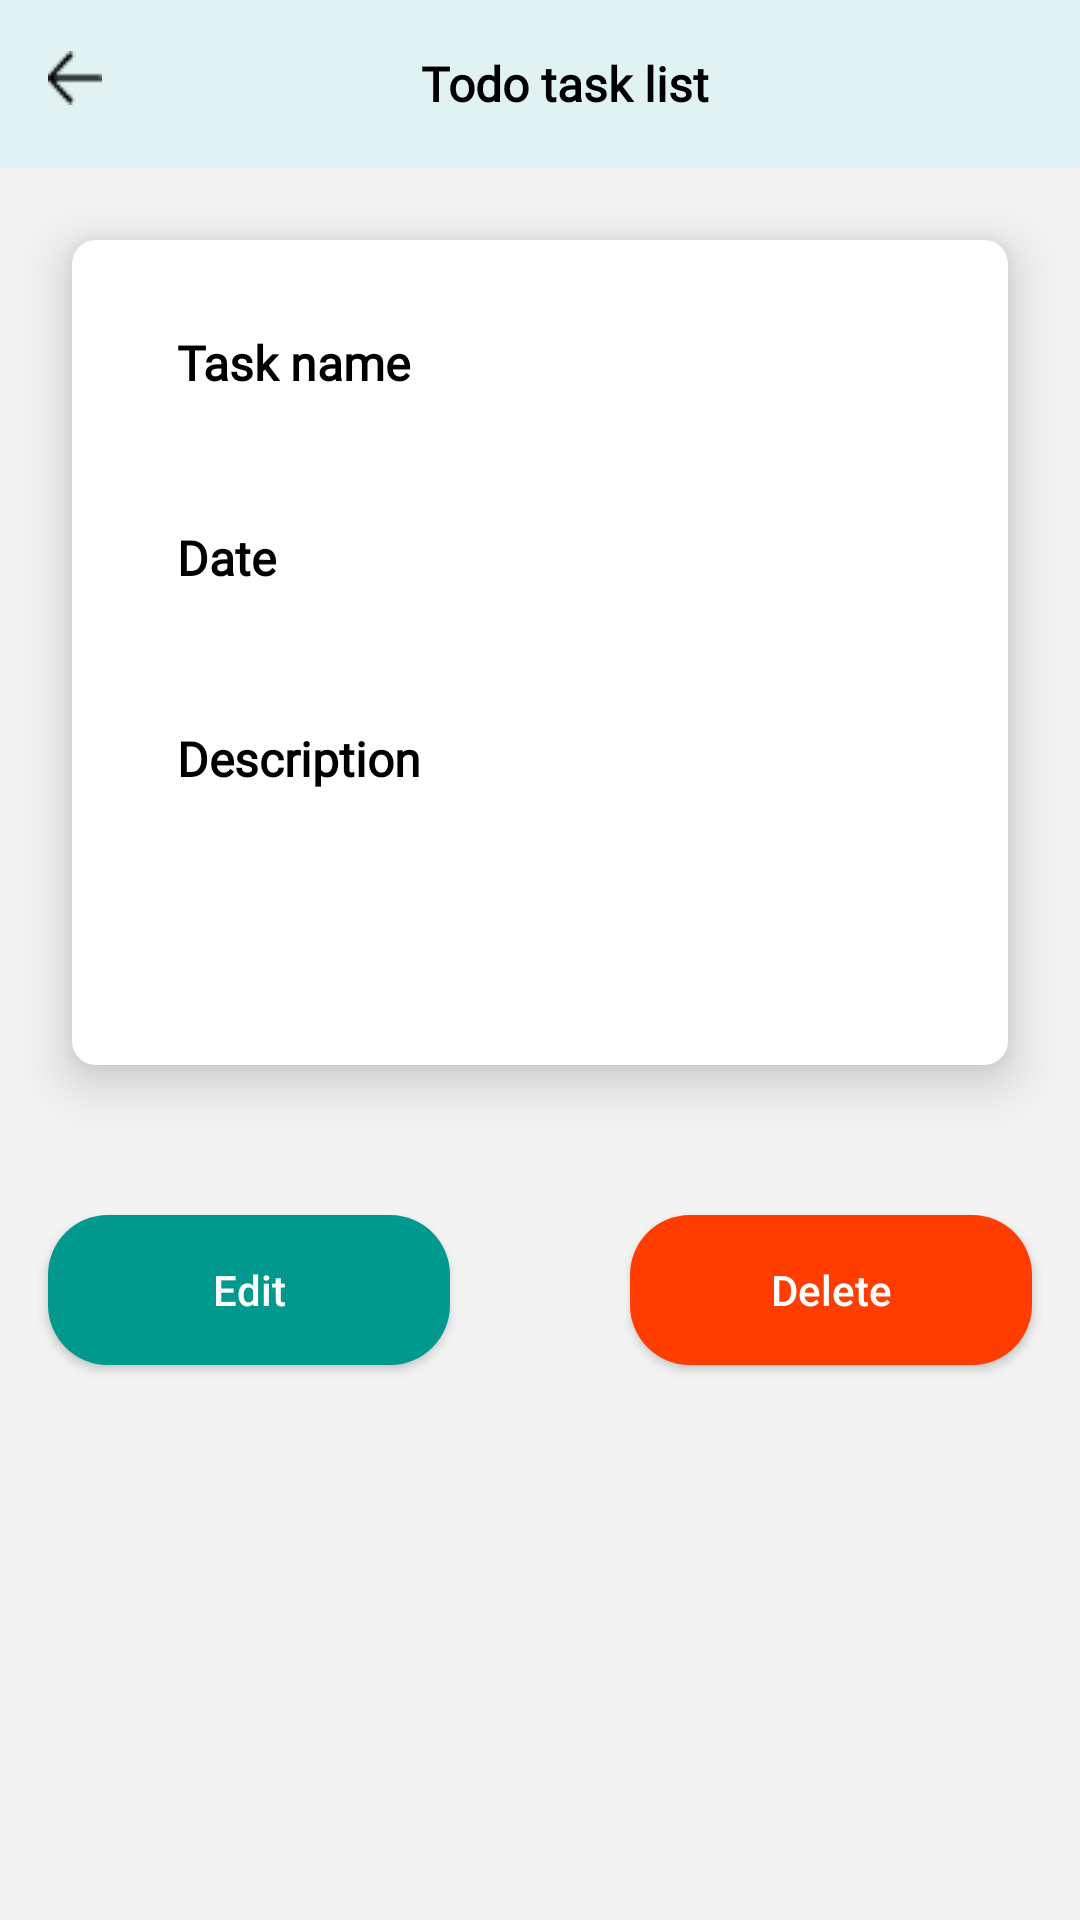

Named icons in this screenshot (1080px×1920px) and their centers, (x,y):
back: (75,78)
